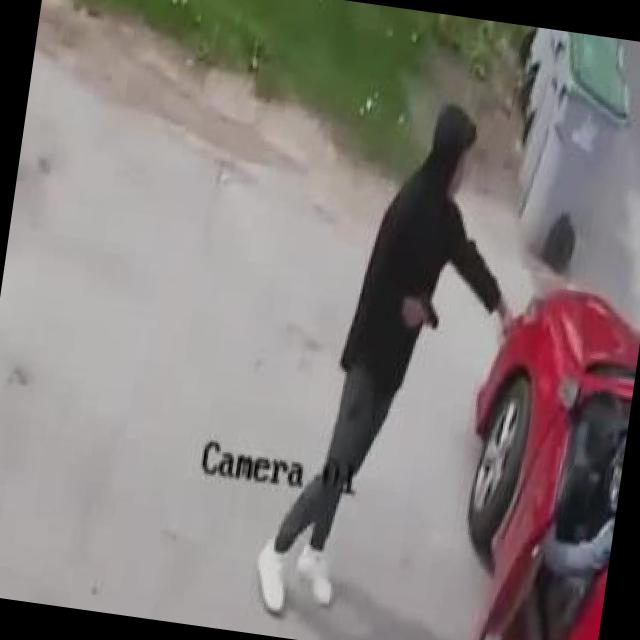Guns: (406, 280, 447, 338)
